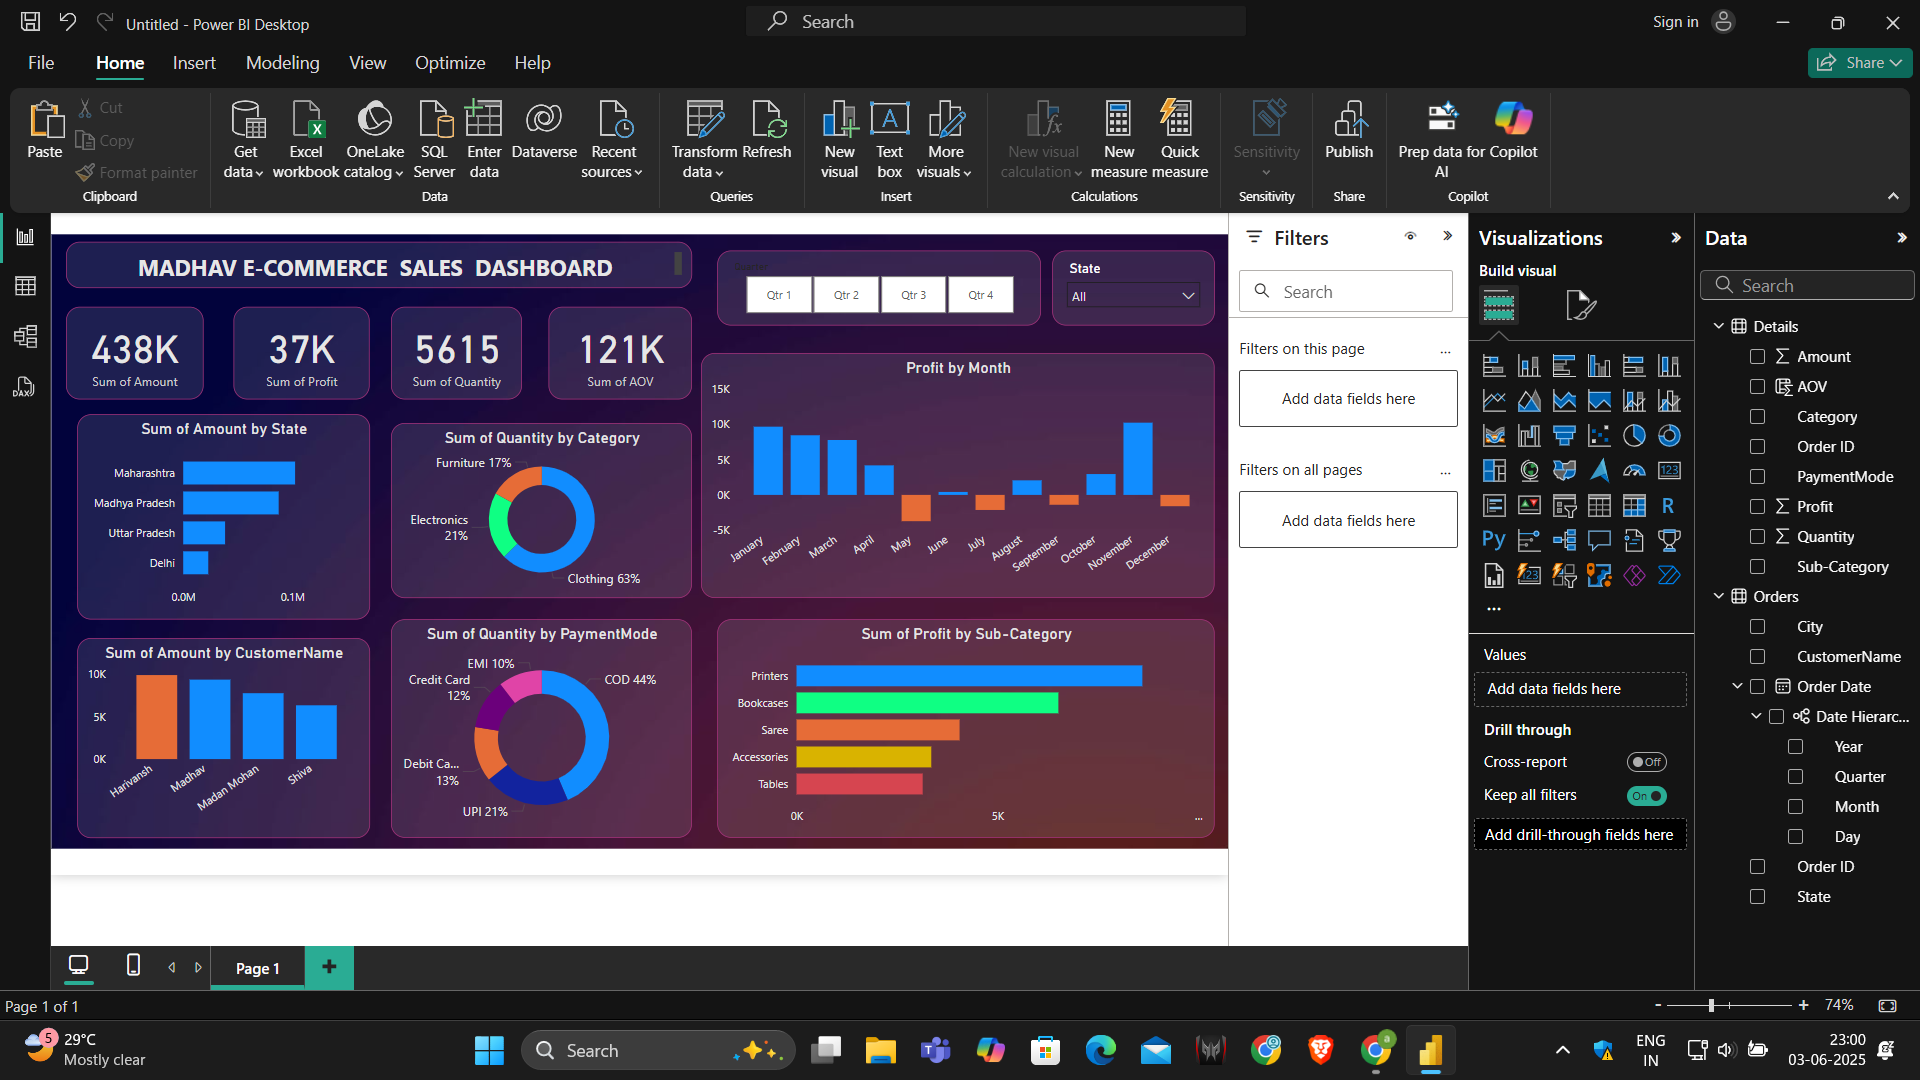

Layout of this report page (visuals, bound fields, positions):
{"tool":"powerbi","page":{"name":"Page 1","canvas":[1280,720],"ordinal":0},"visuals":[{"type":"textbox","box":[16.3,31.3,680.9,50.3],"z":0},{"type":"columnChart","title":"Profit by Month","fields":{"Y":["Details.Profit"],"Category":["Orders.Order Date.Variation.Date Hierarchy.Month"]},"box":[706.7,152.2,558.6,266.4],"z":1000},{"type":"barChart","fields":{"Category":["Details.Sub-Category"],"Y":["Details.Profit"]},"box":[724.4,441.7,540.9,237.8],"z":2000},{"type":"donutChart","fields":{"Category":["Details.Category"],"Y":["Details.Quantity"]},"box":[369.7,228.3,327.5,190.3],"z":3000},{"type":"donutChart","fields":{"Y":["Details.Quantity"],"Category":["Details.PaymentMode"]},"box":[369.7,441.7,327.5,237.8],"z":4000},{"type":"card","fields":{"Values":["Details.Amount"]},"box":[16.3,101.9,149.5,100.6],"z":5000},{"type":"card","fields":{"Values":["Details.Profit"]},"box":[198.4,101.9,148.1,100.6],"z":6000},{"type":"card","fields":{"Values":["Details.Quantity"]},"box":[369.7,101.9,142.7,100.6],"z":7000},{"type":"card","fields":{"Values":["Details.AOV"]},"box":[540.9,101.9,156.3,100.6],"z":8000},{"type":"barChart","fields":{"Category":["Orders.State"],"Y":["Details.Amount"]},"box":[28.5,218.8,318,222.9],"z":9000},{"type":"columnChart","fields":{"Category":["Orders.CustomerName"],"Y":["Details.Amount"]},"box":[28.5,462.1,318,217.5],"z":10000},{"type":"slicer","fields":{"Values":["Orders.Order Date.Variation.Date Hierarchy.Quarter"]},"box":[724.4,40.8,352,81.5],"z":11000},{"type":"slicer","fields":{"Values":["Orders.State"]},"box":[1088.6,40.8,176.7,81.5],"z":11001}]}

Visuals, with their boxes on the page's 1280x720 design canvas (x1, y1, x2, y2). These are canvas units, not pixel positions in the 1920x1080 screenshot, which may show the page scaled, cropped or inside an application window:
textbox: bbox(16, 31, 697, 82)
"Profit by Month" columnChart: bbox(707, 152, 1265, 419)
barChart - Details.Sub-Category x Details.Profit: bbox(724, 442, 1265, 680)
donutChart - Details.Category x Details.Quantity: bbox(370, 228, 697, 419)
donutChart - Details.Quantity x Details.PaymentMode: bbox(370, 442, 697, 680)
card - Details.Amount: bbox(16, 102, 166, 202)
card - Details.Profit: bbox(198, 102, 346, 202)
card - Details.Quantity: bbox(370, 102, 512, 202)
card - Details.AOV: bbox(541, 102, 697, 202)
barChart - Orders.State x Details.Amount: bbox(28, 219, 346, 442)
columnChart - Orders.CustomerName x Details.Amount: bbox(28, 462, 346, 680)
slicer - Orders.Order Date.Variation.Date Hierarchy.Quarter: bbox(724, 41, 1076, 122)
slicer - Orders.State: bbox(1089, 41, 1265, 122)
